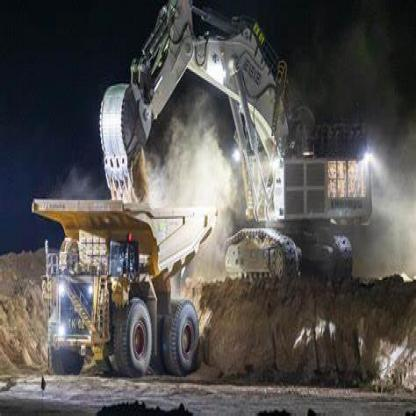dump_truck: (24, 175, 218, 385)
excavator: (96, 0, 368, 269)
